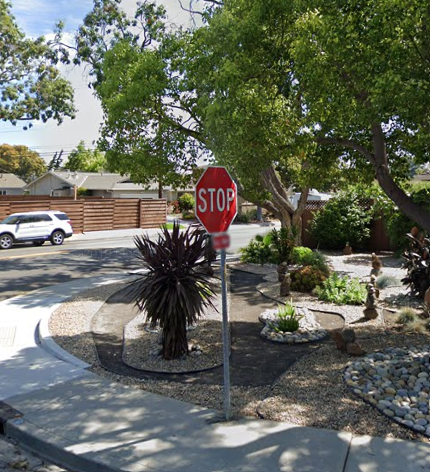stop_sign: (196, 168, 237, 236)
